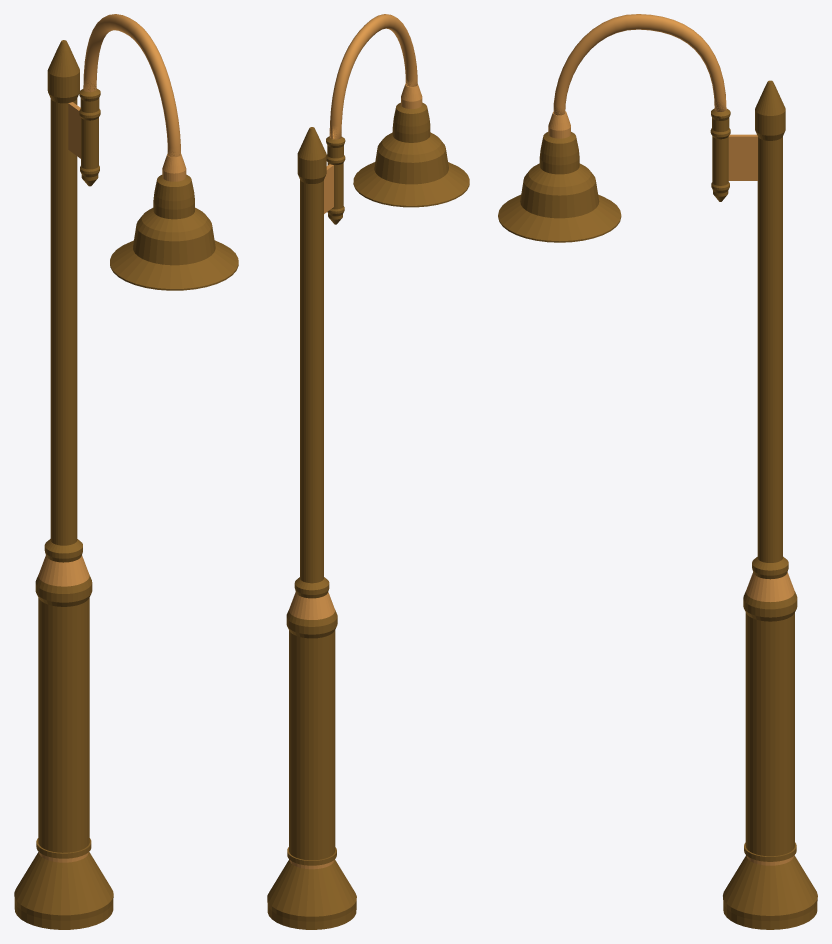
Rendered from Streetlamp.fbx.
3 renders of one model, left to right at view 1: azimuth 30°, elevation 25°; view 2: azimuth 150°, elevation 25°; view 3: azimuth 270°, elevation 25°, orthographic. The views are drawn at different scales.
Parts seen in each view (by area): view 1: Circle, BezierCurve; view 2: Circle, BezierCurve; view 3: Circle, BezierCurve.
Part boxes in pixels (x1,y1,x2,y2): Circle: [14, 40, 238, 929]; BezierCurve: [83, 14, 180, 157]; Circle: [267, 84, 469, 929]; BezierCurve: [329, 14, 417, 139]; Circle: [498, 80, 817, 929]; BezierCurve: [553, 14, 726, 115].
Bounding box in the file's own units: 2.15 × 17.22 × 5.57.
